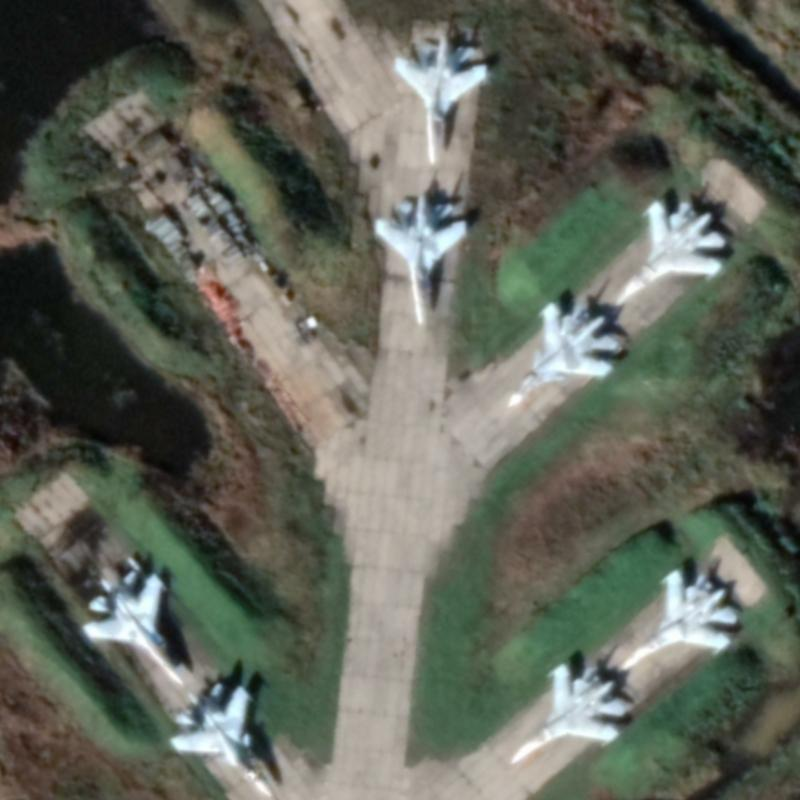A1: (615, 566, 740, 675), (370, 193, 469, 327), (391, 32, 489, 166), (505, 659, 627, 766), (80, 566, 187, 688), (612, 197, 728, 307)
A19: (166, 680, 277, 799), (504, 299, 621, 408)
